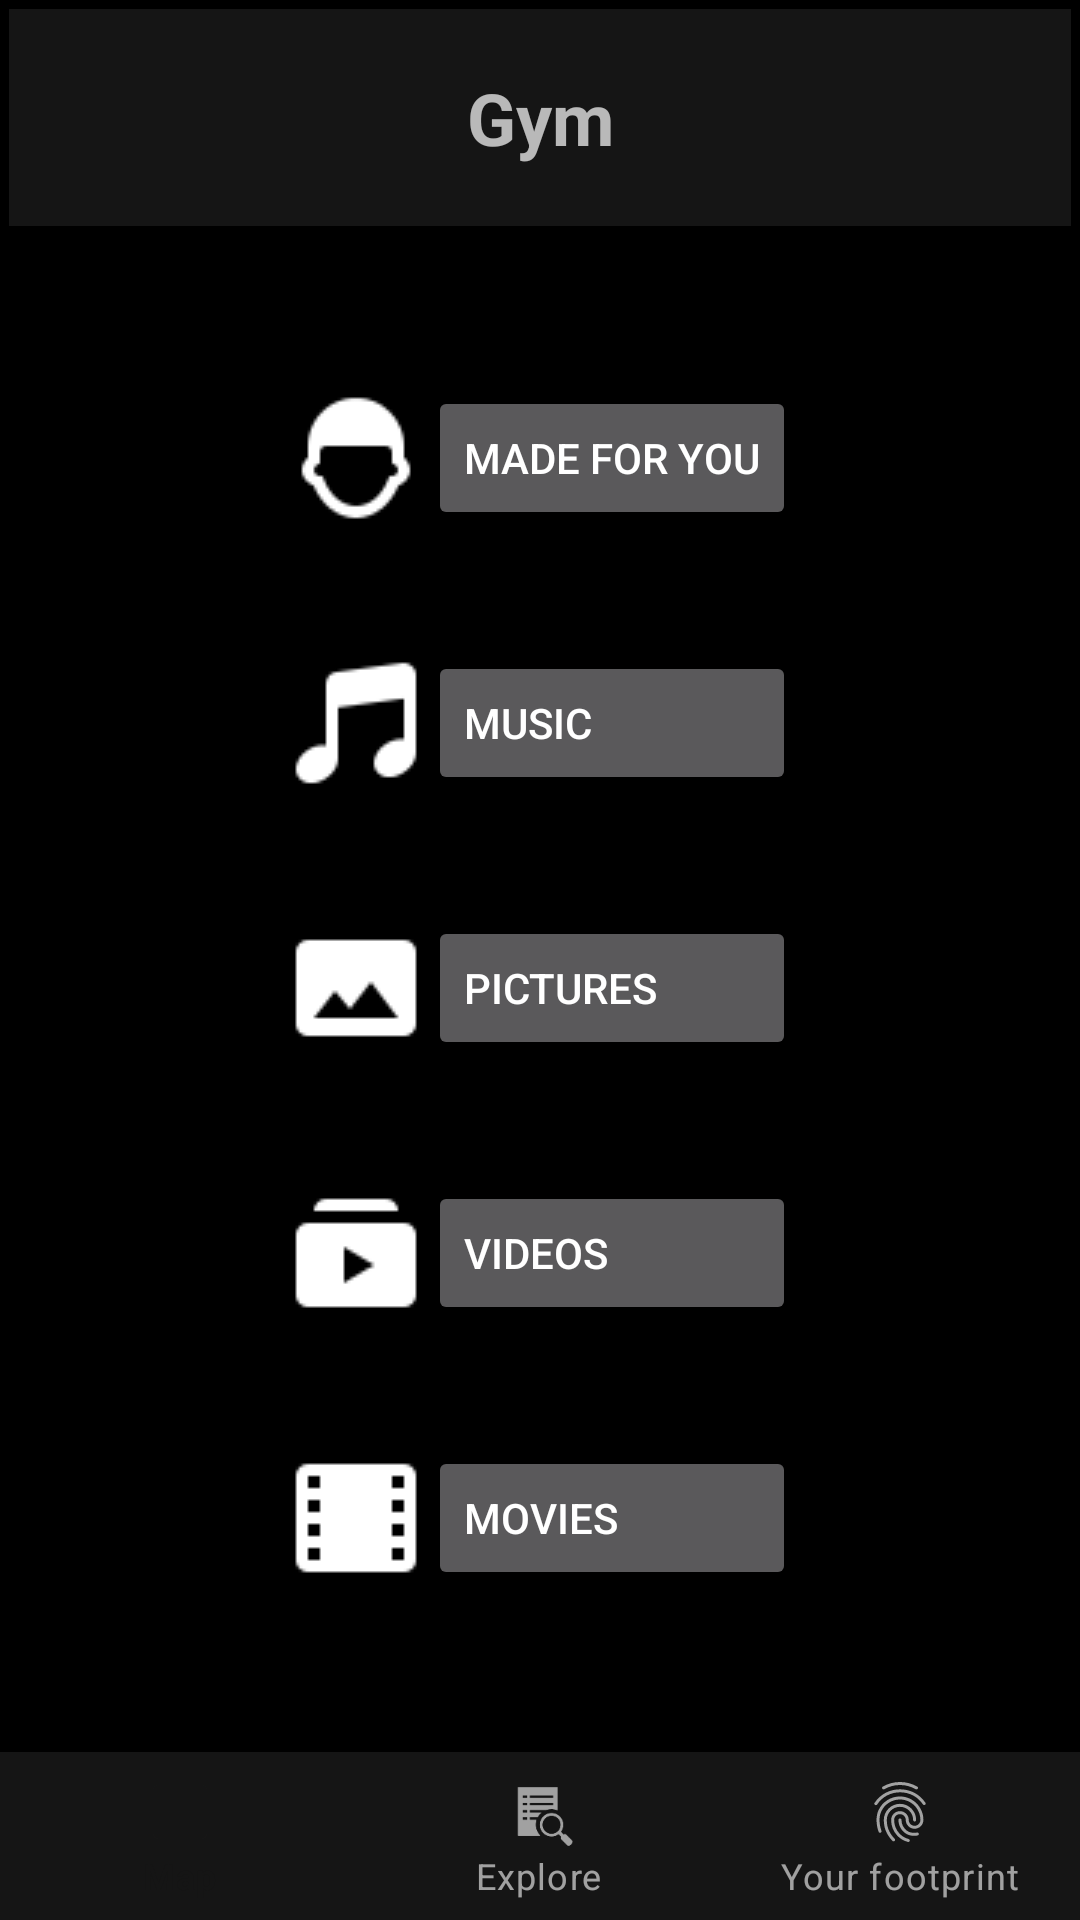

Where icons sit on this 1080w x 1920h app screen, as bbox=[x1, y1, x2, y2]:
user: bbox=[301, 397, 411, 519]
